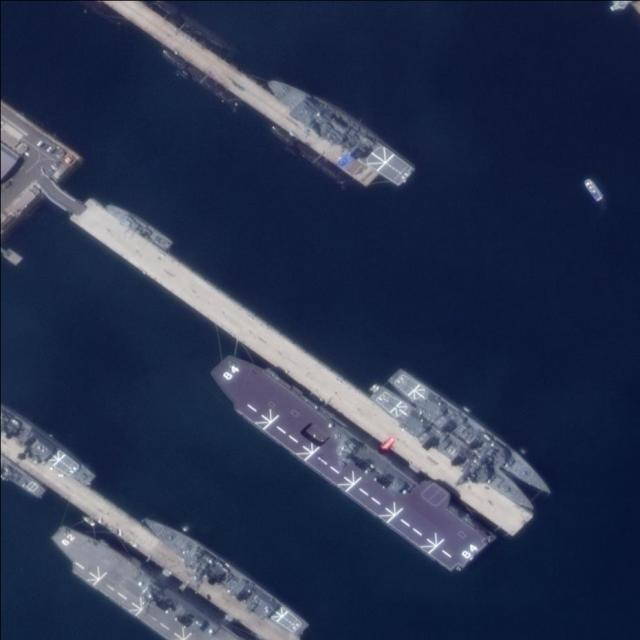Destroyer: (202, 339, 495, 579), (354, 378, 545, 529), (381, 363, 561, 509), (134, 507, 310, 639)
Dock: (43, 176, 532, 540)
Landing: (264, 67, 416, 189)
Other Ship: (582, 177, 605, 203)
Other Warship: (107, 201, 174, 252)
Submarine: (160, 47, 242, 110), (268, 123, 346, 186)
